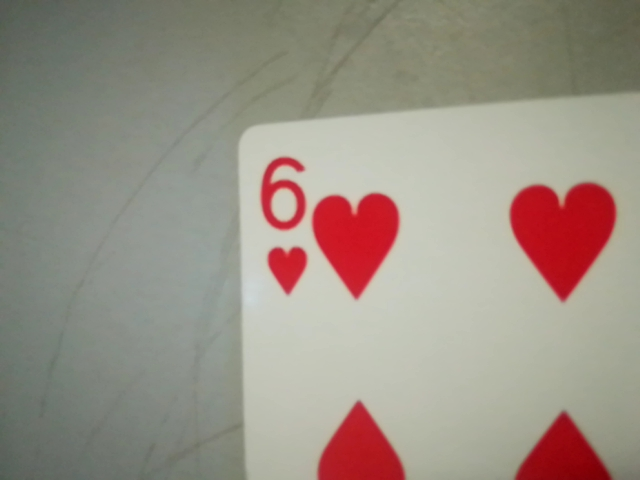hx 6: (248, 144, 315, 305)
